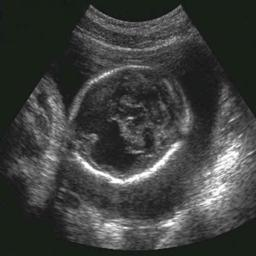abnormal: (74, 63, 196, 190)
